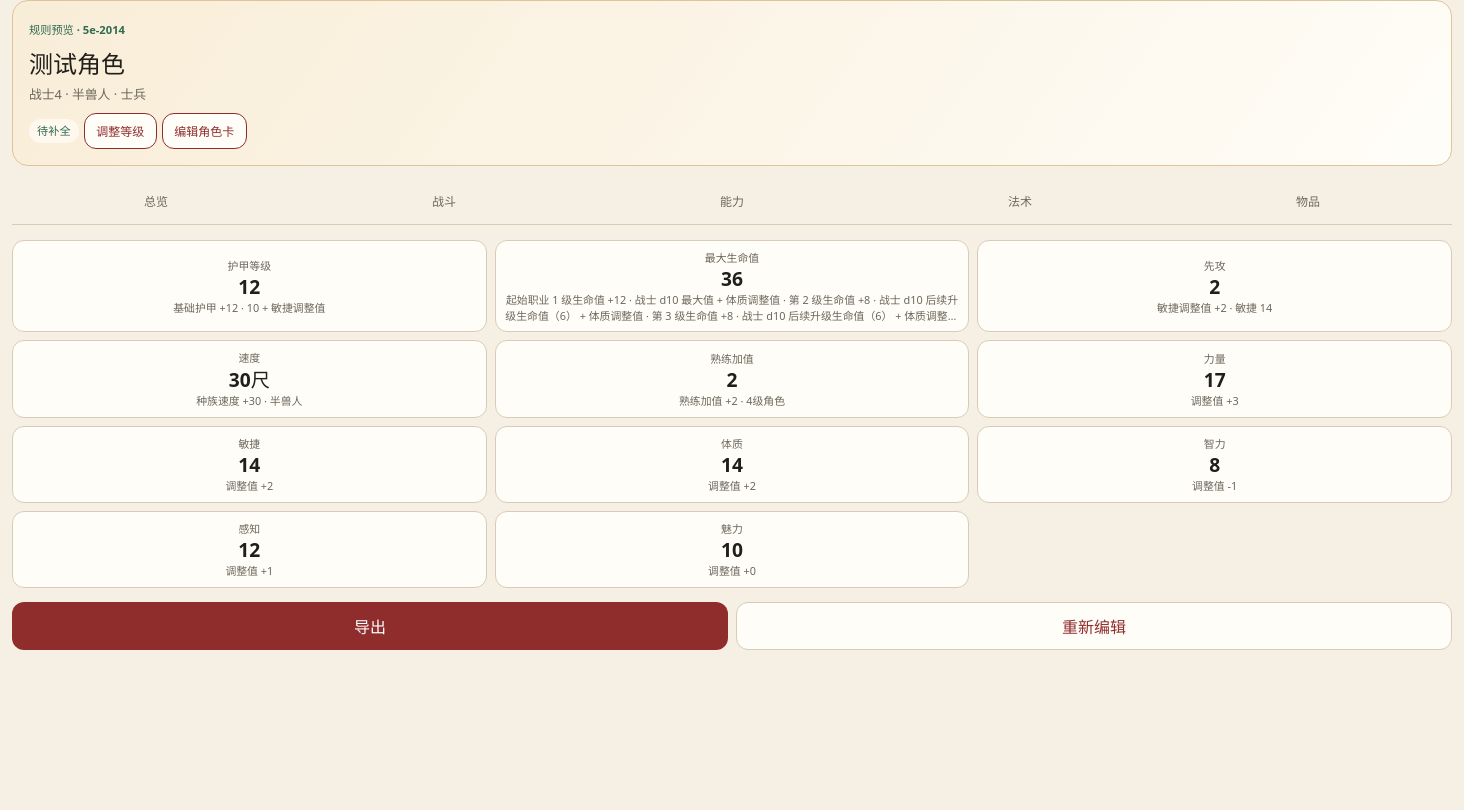
Scenario: CharacterSheetStep 头部按钮布局（编辑模式收纳） › 「更多」展开显示编辑角色形象；无人工编辑时不显示恢复系统默认
Click the button with class "character-sheet__level-button" showing "编辑角色卡" at (204, 131), box [162,113,247,149]
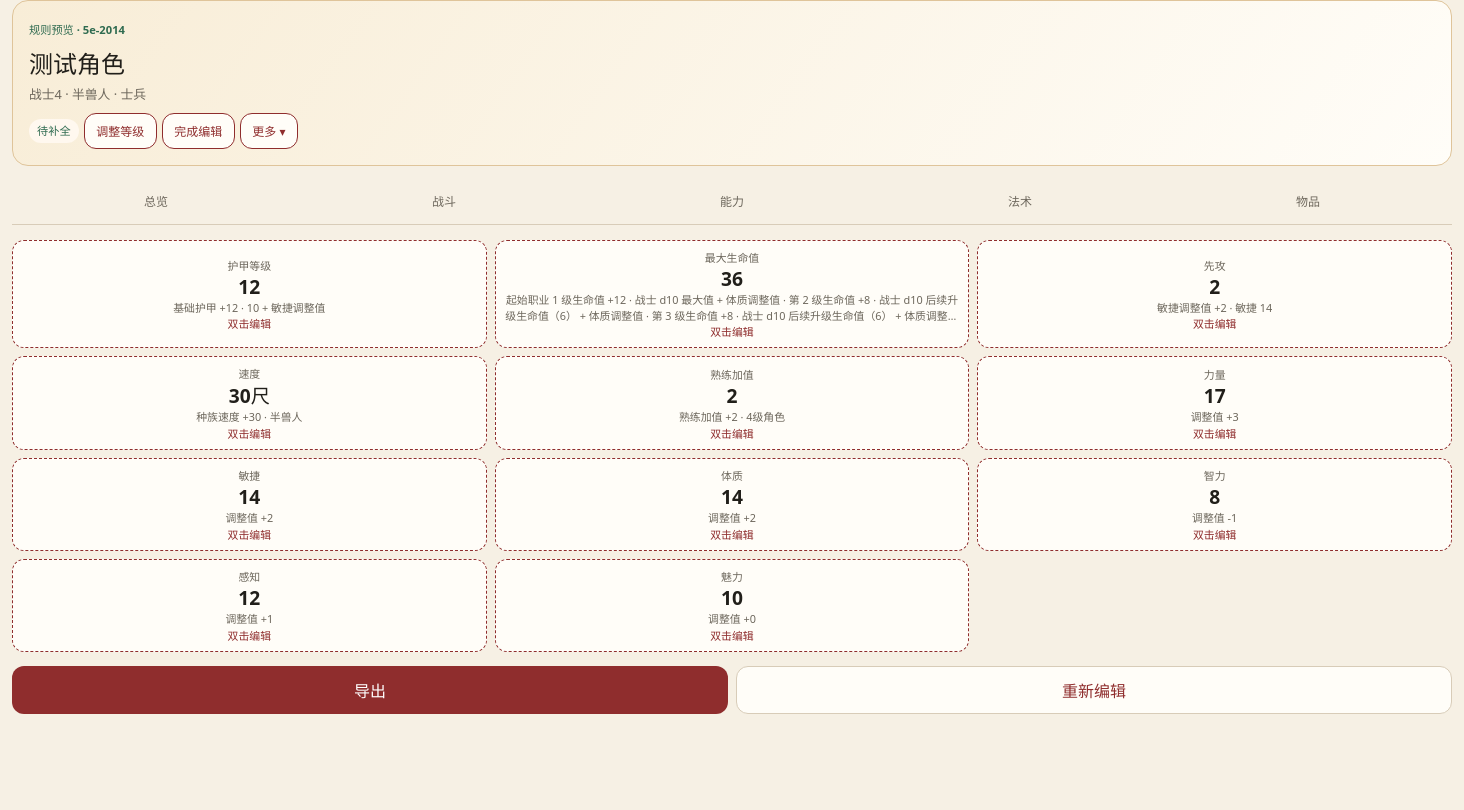
expect the button with class "character-sheet__level-button" showing "更多 ▾" is shown: met
Click the button with class "character-sheet__level-button" showing "更多 ▾" at (269, 131), box [240,113,298,149]
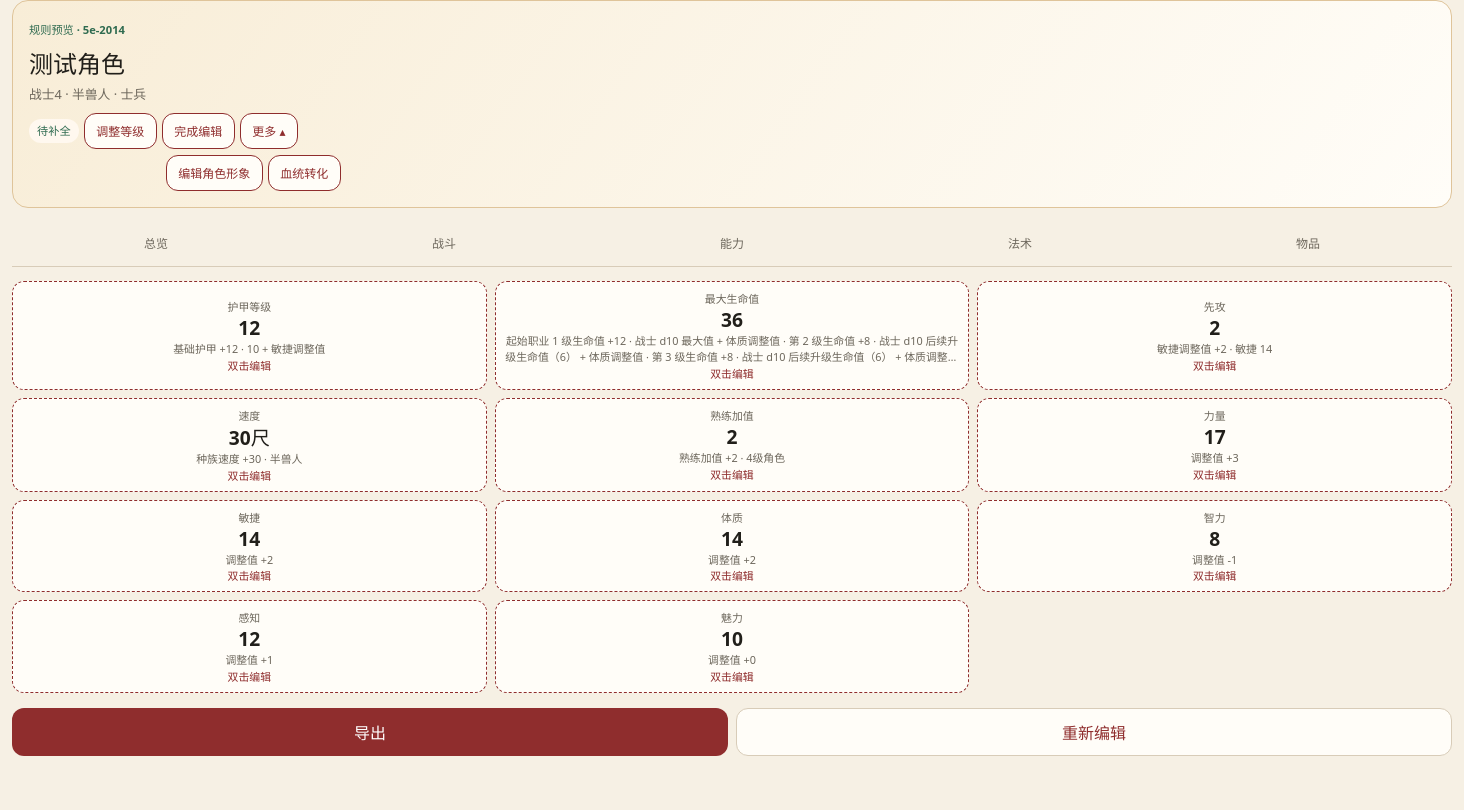
expect the element with class "character-sheet__more-panel" is shown: met, box [166,155,340,191]
expect the text "编辑角色形象" is shown: met, box [166,155,262,191]
